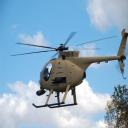helicopter: (12, 33, 128, 109)
